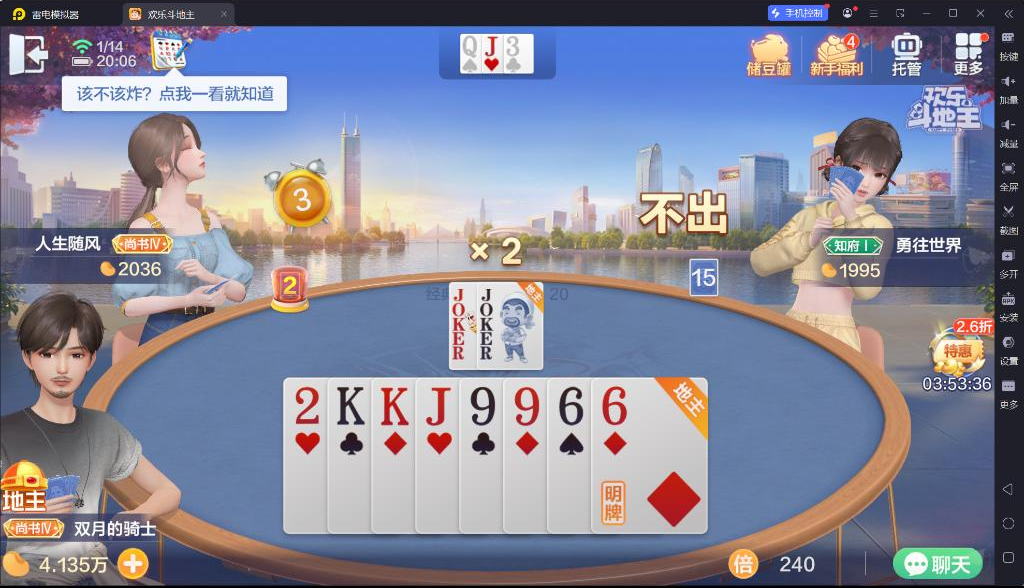J: (421, 384, 455, 427), (483, 35, 499, 57)
JOKER: (450, 286, 468, 334)
K: (376, 383, 410, 428), (333, 383, 365, 427)
Q: (462, 35, 479, 59)
joker: (478, 286, 494, 334)
nine: (464, 384, 498, 428), (509, 384, 543, 427)
six: (553, 385, 587, 427), (596, 384, 630, 426)
three: (505, 35, 521, 58)
two: (291, 384, 321, 428)
